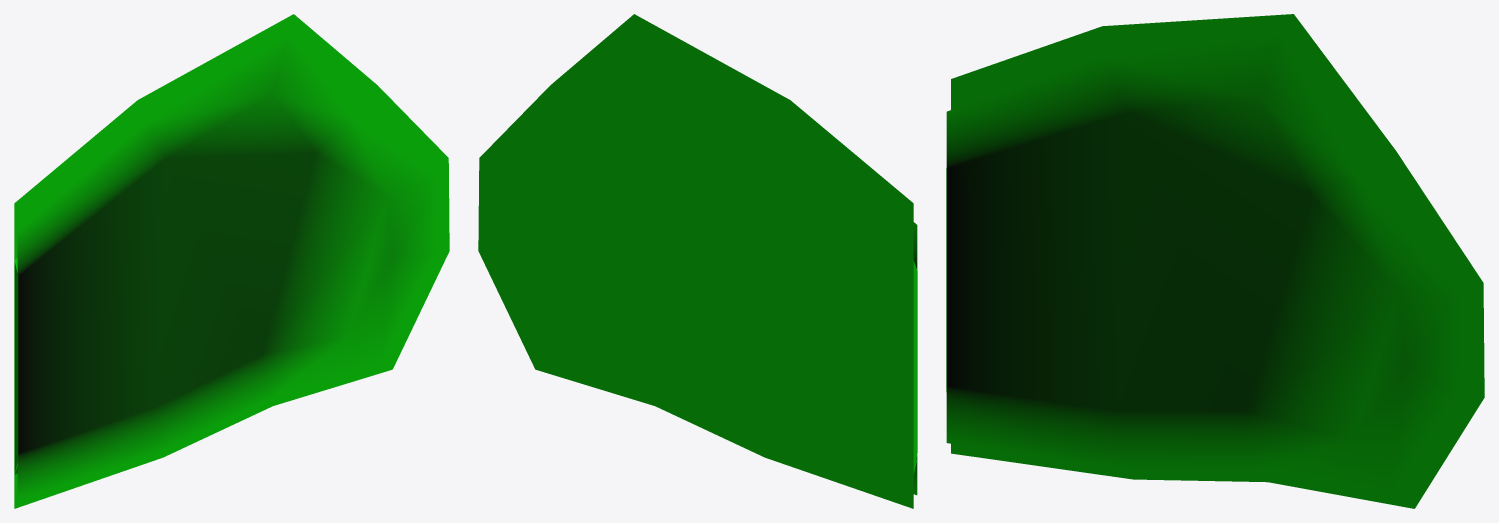
File: DBK_Plywood_Prop_Big_F.fbx
3 renders of one model, left to right at view 1: azimuth 30°, elevation 25°; view 2: azimuth 150°, elevation 25°; view 3: azimuth 330°, elevation 25°, orthographic. The views are drawn at different scales.
Visible parts, largest first — view 1: DBK_Plywood_Prop_Big_F; view 2: DBK_Plywood_Prop_Big_F; view 3: DBK_Plywood_Prop_Big_F.
Boxes of the visible parts, x1=… form: DBK_Plywood_Prop_Big_F: x1=14, y1=14, x2=449, y2=508; DBK_Plywood_Prop_Big_F: x1=478, y1=14, x2=917, y2=508; DBK_Plywood_Prop_Big_F: x1=946, y1=14, x2=1484, y2=508.
Bounding box in the file's own units: 130 × 122 × 2.1.
